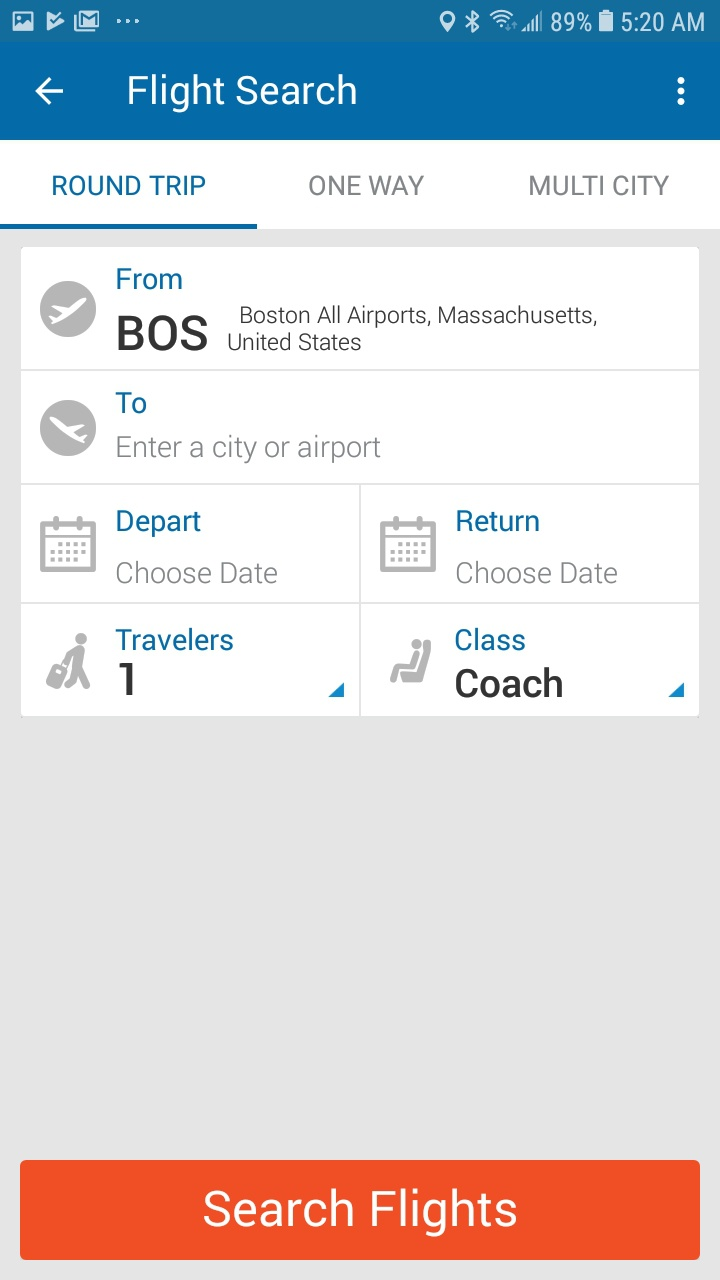Icon: (38, 514, 97, 571), (380, 516, 437, 573), (35, 77, 65, 107), (677, 74, 686, 107), (668, 682, 685, 698), (329, 682, 345, 698)
Image: (40, 400, 98, 457), (40, 281, 97, 338), (46, 633, 92, 690), (390, 639, 432, 684)
Text: (129, 74, 357, 114), (241, 305, 597, 329), (117, 434, 382, 465), (115, 558, 277, 585), (457, 560, 618, 585), (528, 171, 668, 199), (456, 667, 563, 699), (53, 175, 207, 197), (118, 315, 209, 352), (116, 627, 234, 652), (229, 332, 362, 352), (114, 507, 201, 537), (309, 175, 425, 197), (457, 510, 540, 533), (455, 627, 526, 652), (117, 268, 183, 291), (115, 392, 147, 415), (119, 662, 134, 696)
TextButton: (21, 1160, 701, 1260)
UpperTaskBar: (1, 1, 720, 43)
